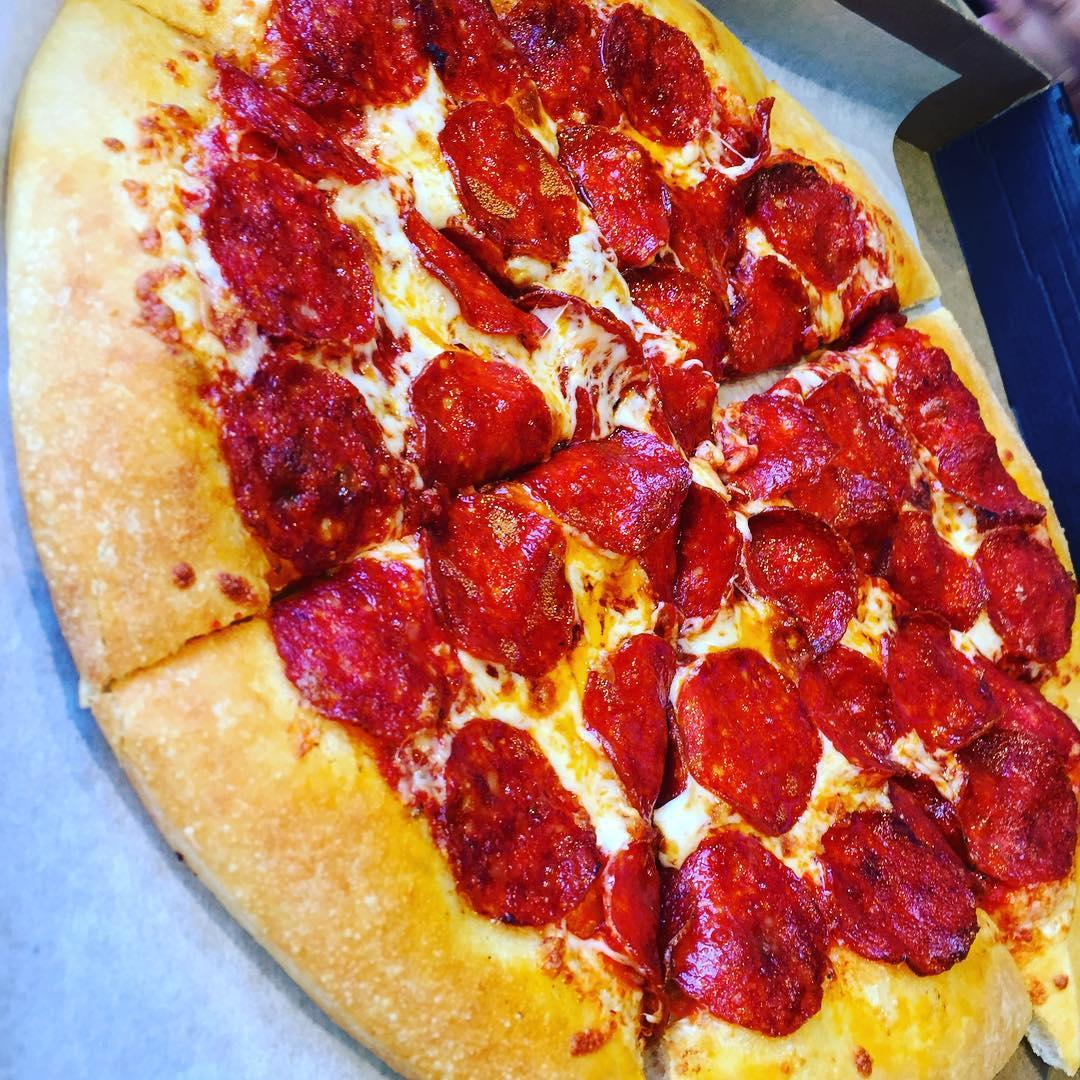Pepperoni: (253, 553, 465, 740), (437, 717, 612, 929), (205, 161, 377, 348), (215, 369, 382, 557), (671, 833, 825, 1029), (413, 493, 576, 672), (675, 643, 820, 826), (829, 801, 977, 977), (441, 101, 572, 262), (541, 423, 690, 562), (223, 53, 377, 177), (961, 729, 1080, 885), (409, 343, 550, 472), (401, 209, 529, 344), (501, 283, 642, 396), (271, 5, 425, 107), (741, 509, 853, 648), (903, 340, 994, 509), (583, 637, 676, 801), (601, 0, 708, 141), (741, 163, 864, 285), (501, 3, 622, 125), (567, 129, 668, 264), (887, 629, 1002, 744), (979, 537, 1073, 670), (809, 649, 906, 770), (817, 375, 904, 508), (611, 839, 676, 996), (717, 249, 804, 365), (883, 517, 976, 622), (617, 263, 728, 350), (425, 1, 520, 101), (629, 337, 717, 444), (673, 485, 740, 614), (669, 173, 741, 290), (729, 397, 813, 497), (707, 97, 773, 168)
Pizza: (5, 0, 1080, 1080)
